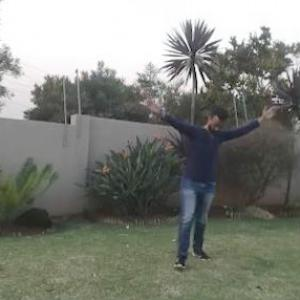takeoff: (142, 88, 272, 275)
